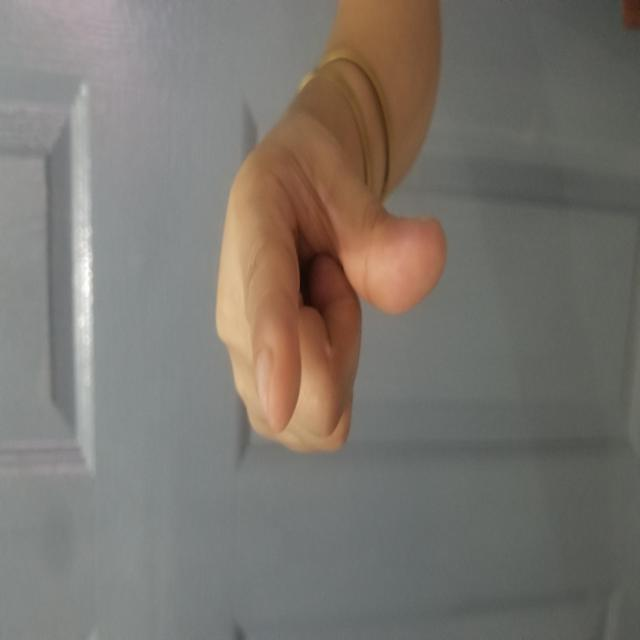Z: (207, 77, 461, 476)
